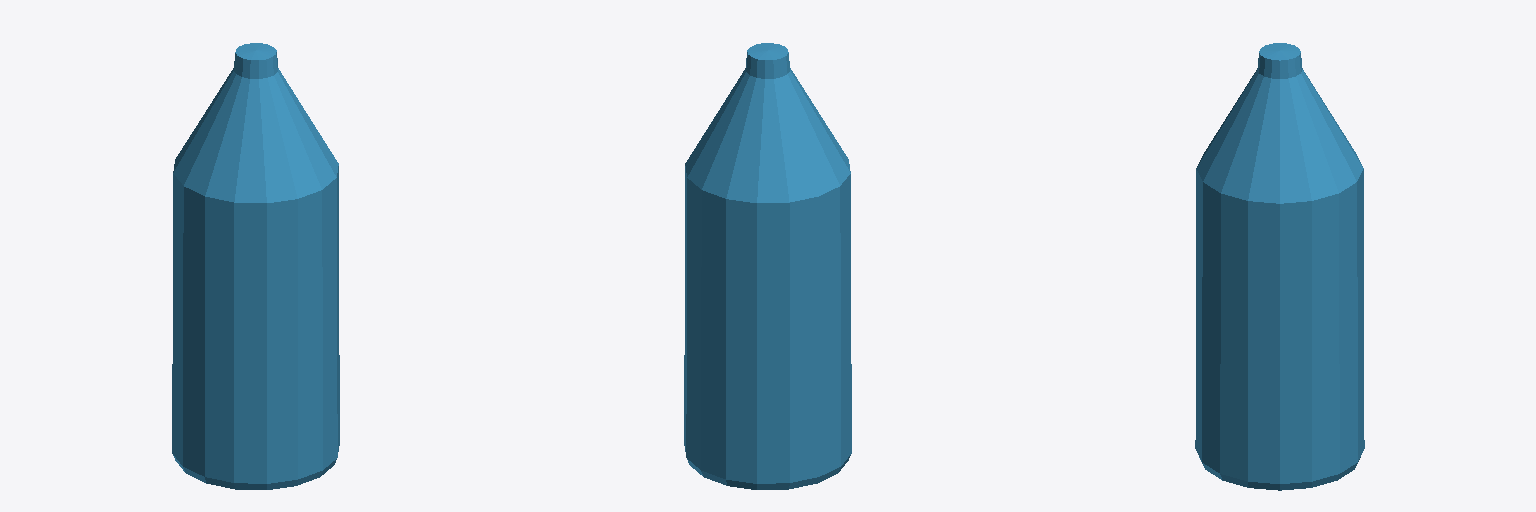
The model's file is bottle.obj.
3 views of the same model, side by side, from view 1: azimuth 30°, elevation 25°; view 2: azimuth 150°, elevation 25°; view 3: azimuth 270°, elevation 25° (orthographic).
Parts seen in each view (by area): view 1: Plane; view 2: Plane; view 3: Plane.
Part boxes in pixels (x1,y1,x2,y2): Plane: (172,43,339,489); Plane: (684,43,851,489); Plane: (1195,43,1364,490).
Size of the model in its own units: 0.3944 by 1.06 by 0.3944.